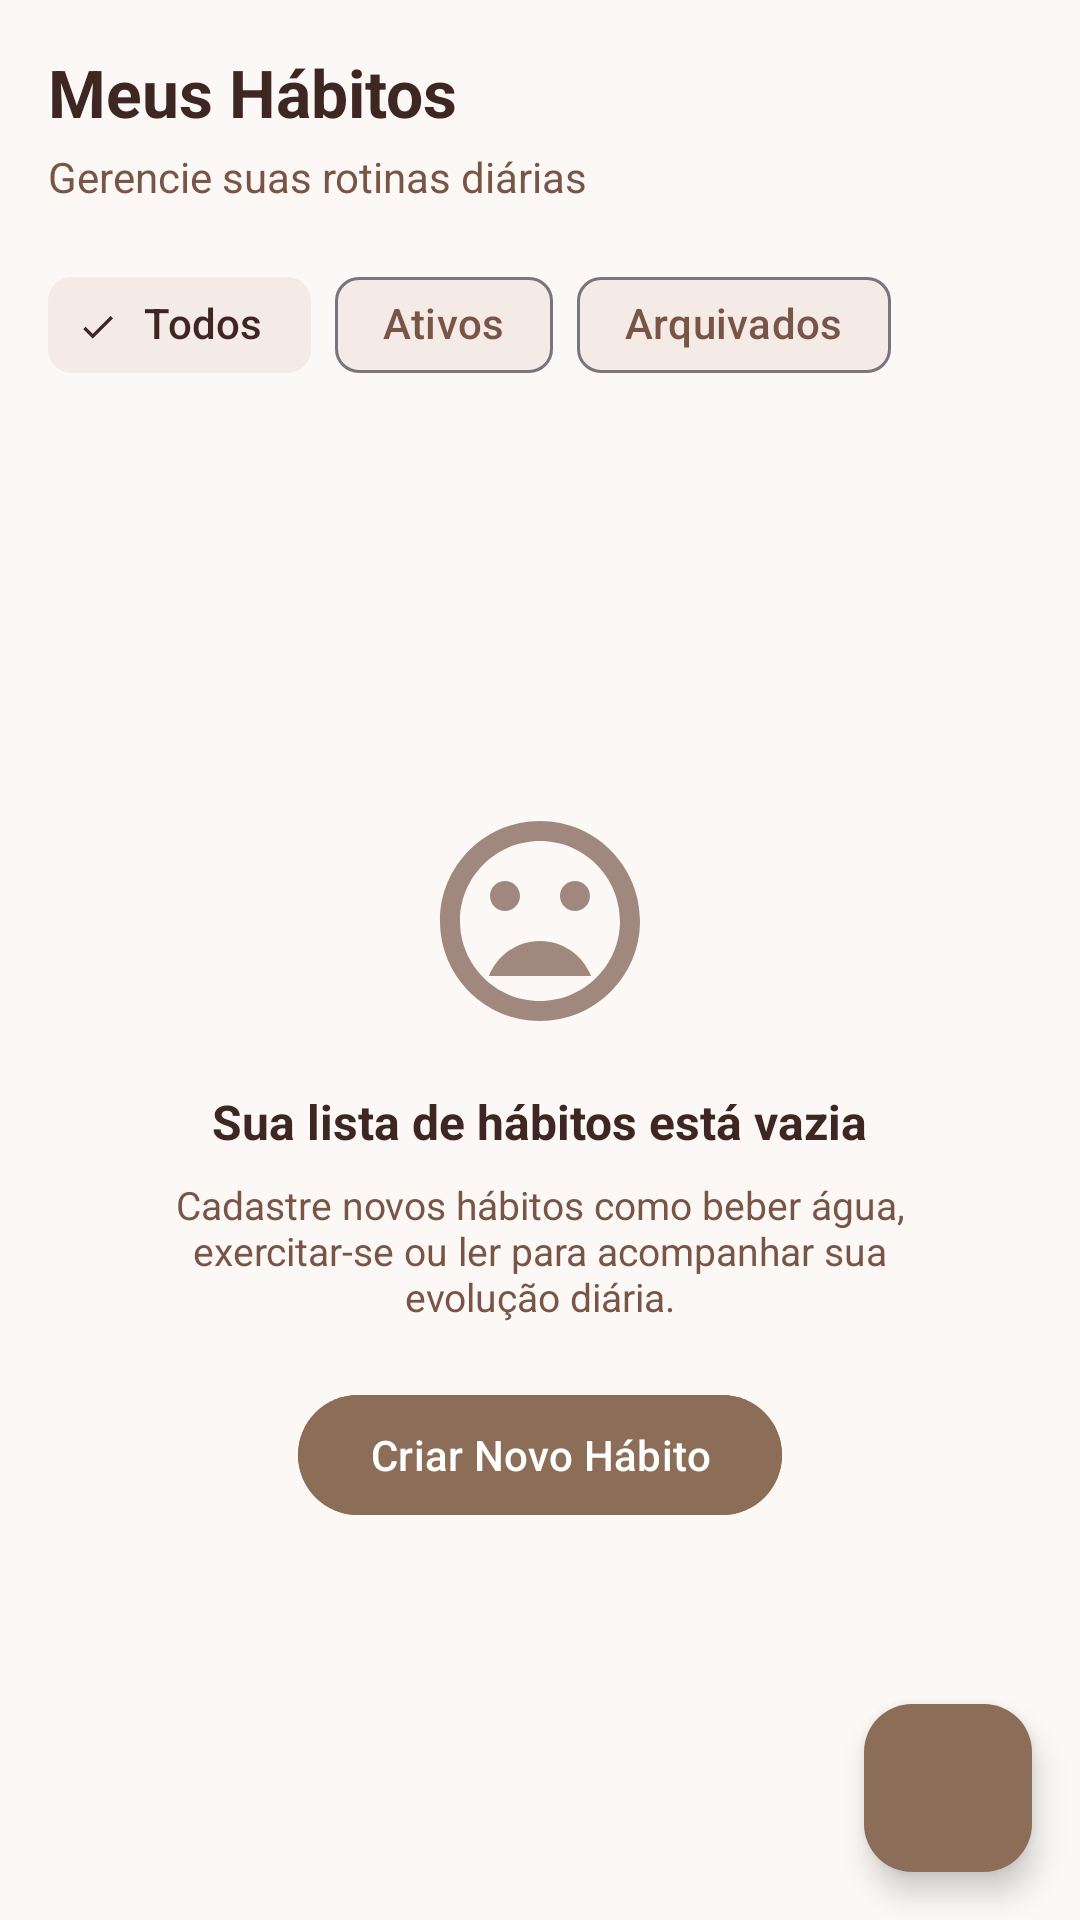

Locate icon controls on the screen. Image size 1080px x 1920px, boxes as {"left": x1, "top": y1, "right": x2, "bottom": y2}.
empty habits: {"left": 440, "top": 821, "right": 640, "bottom": 1021}
